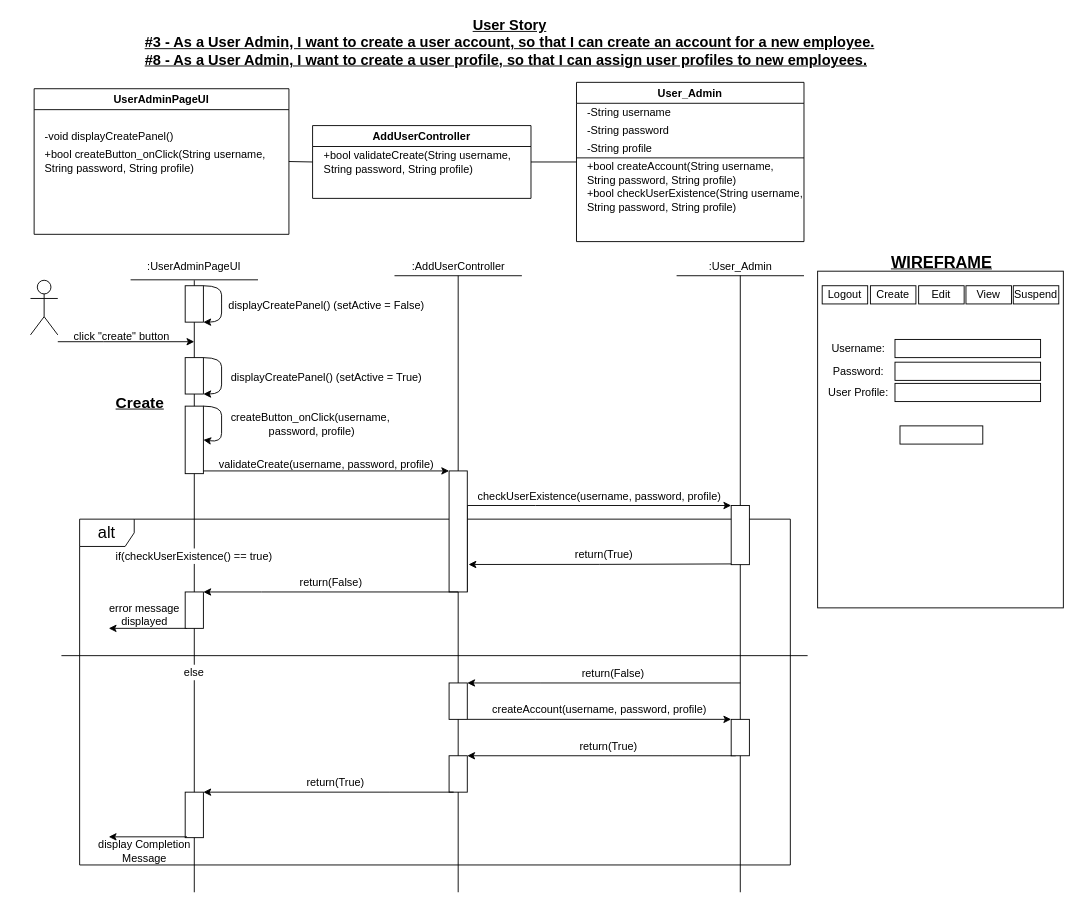
This 1079x909 diagram has some shape labels left out. The shapes that lost their labels are listed below. From the top down, each one's centre as x and y in pixels, then its label:
At (x=44, y=307): "User Admin".
At (x=941, y=434): "Create Account".
